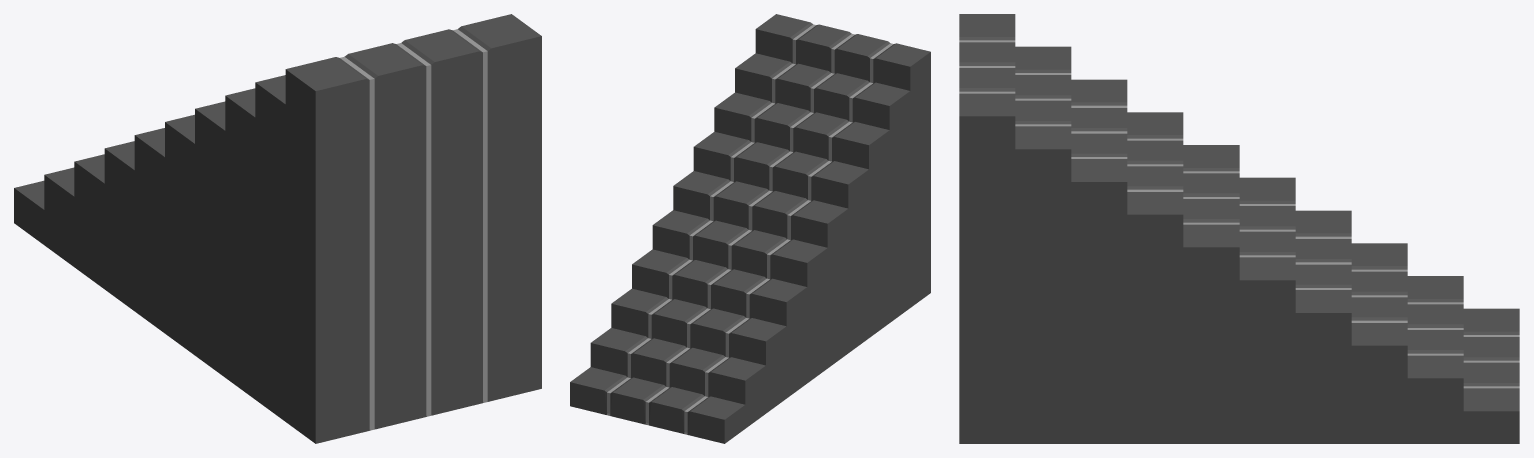
The model's file is StoneStairs(L).fbx.
3 renders of one model, left to right at view 1: azimuth 30°, elevation 25°; view 2: azimuth 150°, elevation 25°; view 3: azimuth 270°, elevation 25°, orthographic. The views are drawn at different scales.
Parts seen in each view (by area): view 1: Cube.001; view 2: Cube.001; view 3: Cube.001.
Boxes of the visible parts, x1,y1,x2,y2 form: Cube.001: [14, 14, 541, 443]; Cube.001: [570, 14, 930, 443]; Cube.001: [959, 14, 1519, 443].
Bounding box in the file's own units: 245 × 366 × 567.
